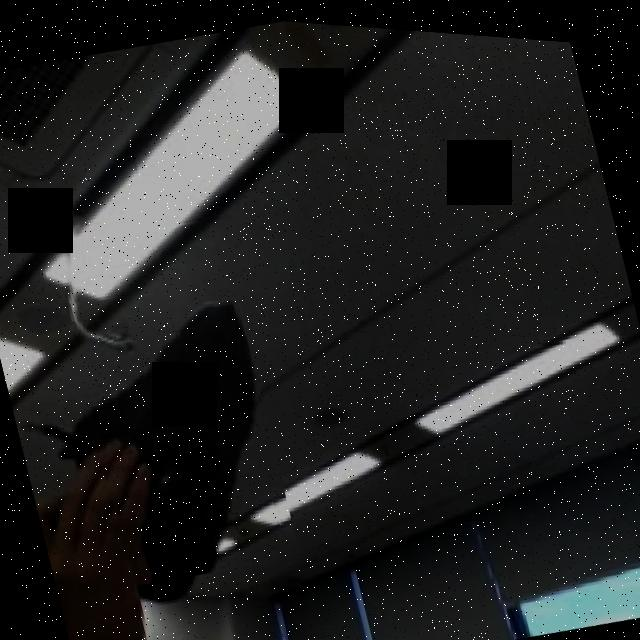shoe: (51, 250, 301, 597)
